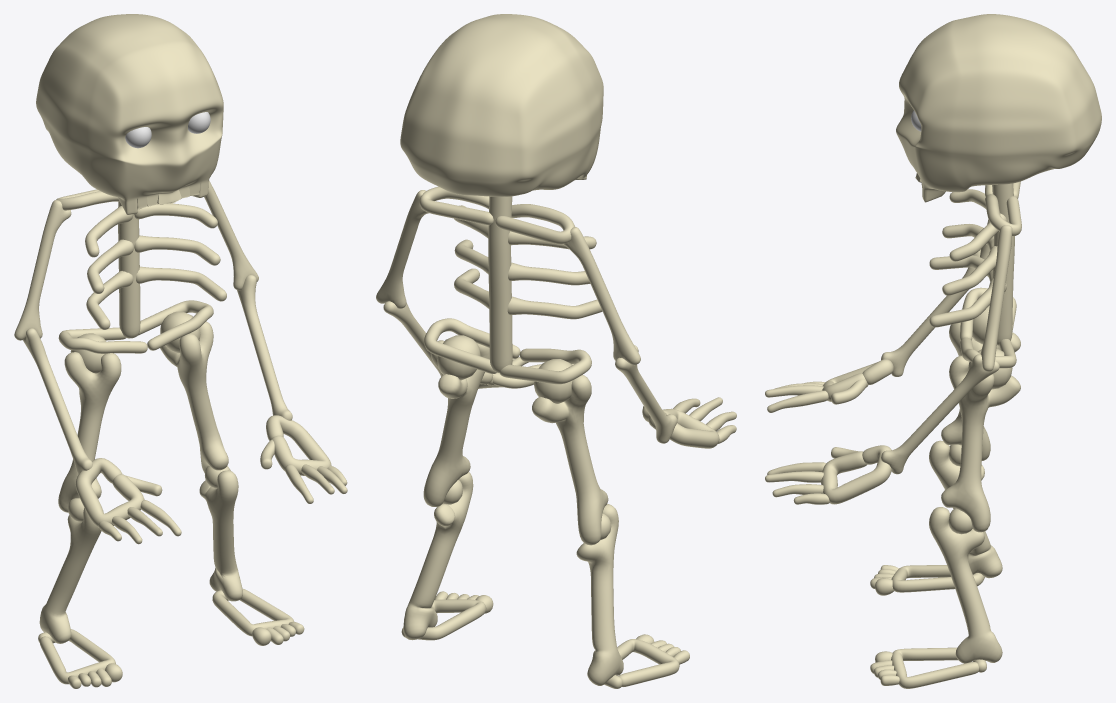
Rendered from skeleton_smaller.fbx.
3 views of the same model, side by side, from view 1: azimuth 30°, elevation 25°; view 2: azimuth 150°, elevation 25°; view 3: azimuth 270°, elevation 25° (orthographic). The views are drawn at different scales.
Parts seen in each view (by area): view 1: Plane, Cube, Sphere; view 2: Plane, Cube; view 3: Plane, Cube.
Boxes of the visible parts, x1,y1,x2,y2 form: Plane: [14, 180, 347, 688]; Cube: [36, 14, 223, 214]; Sphere: [125, 112, 210, 148]; Plane: [376, 186, 736, 688]; Cube: [400, 14, 603, 196]; Plane: [765, 181, 1021, 688]; Cube: [896, 14, 1101, 202].
Size of the model in its own units: 99.04 by 234 by 117.
